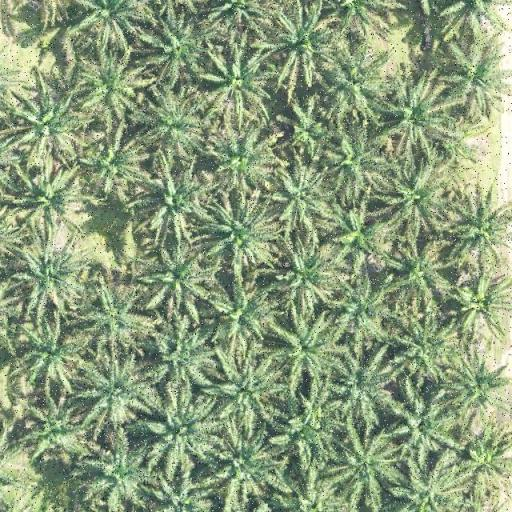Ganoderma: (462, 280, 501, 322)
